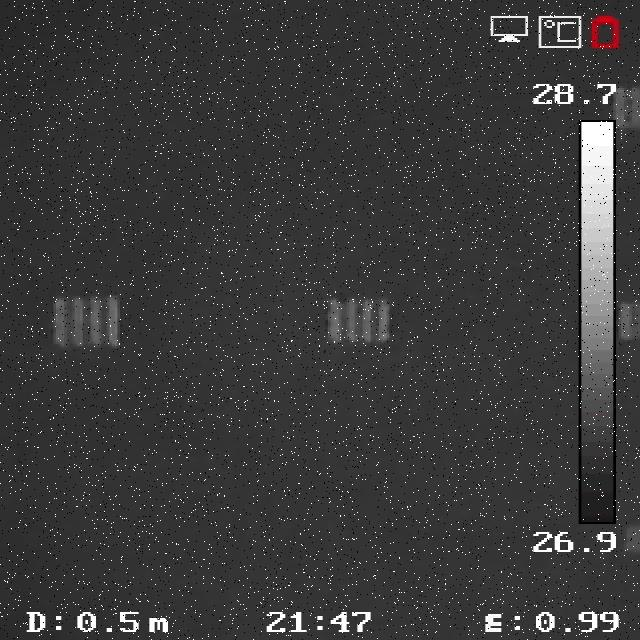Distinguishable 4-bar target: (51, 297, 122, 350), (327, 293, 397, 346)
